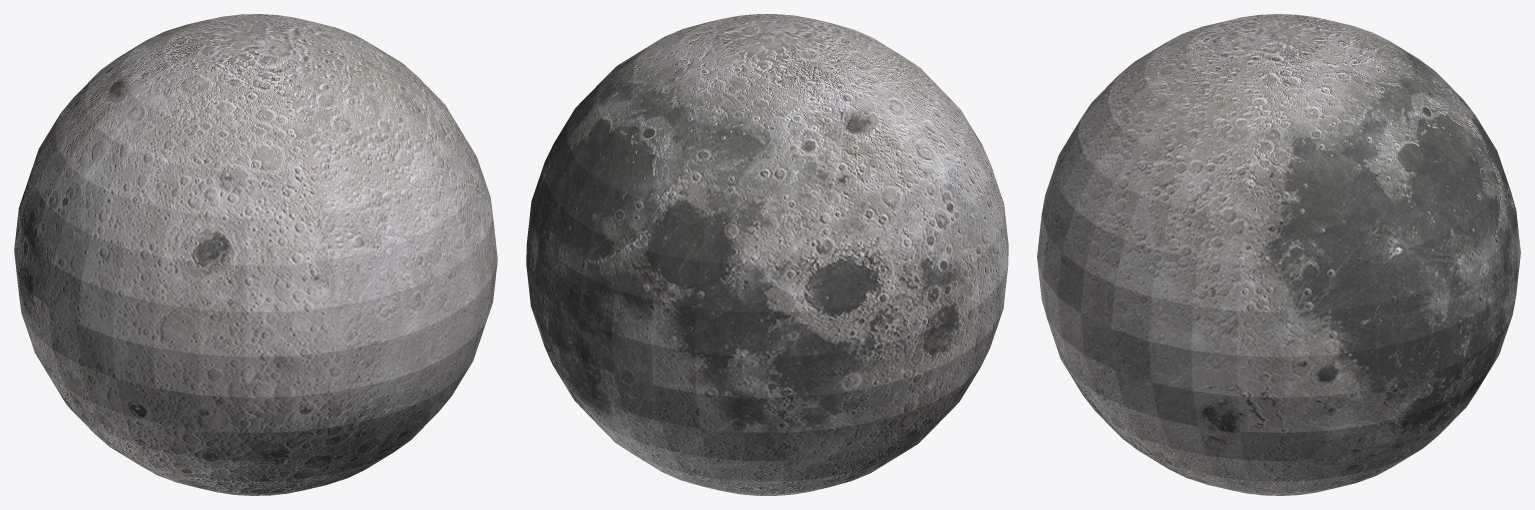
Rendered from moon.obj.
3 views of the same model, side by side, from view 1: azimuth 30°, elevation 25°; view 2: azimuth 150°, elevation 25°; view 3: azimuth 270°, elevation 25° (orthographic).
Parts seen in each view (by area): view 1: Sphere; view 2: Sphere; view 3: Sphere.
Boxes of the visible parts, bbox=[...] form: Sphere: bbox=[14, 14, 497, 495]; Sphere: bbox=[526, 14, 1008, 495]; Sphere: bbox=[1037, 14, 1520, 495].
Bounding box in the file's own units: 2 × 2 × 2.
1 material, 1 textured.
